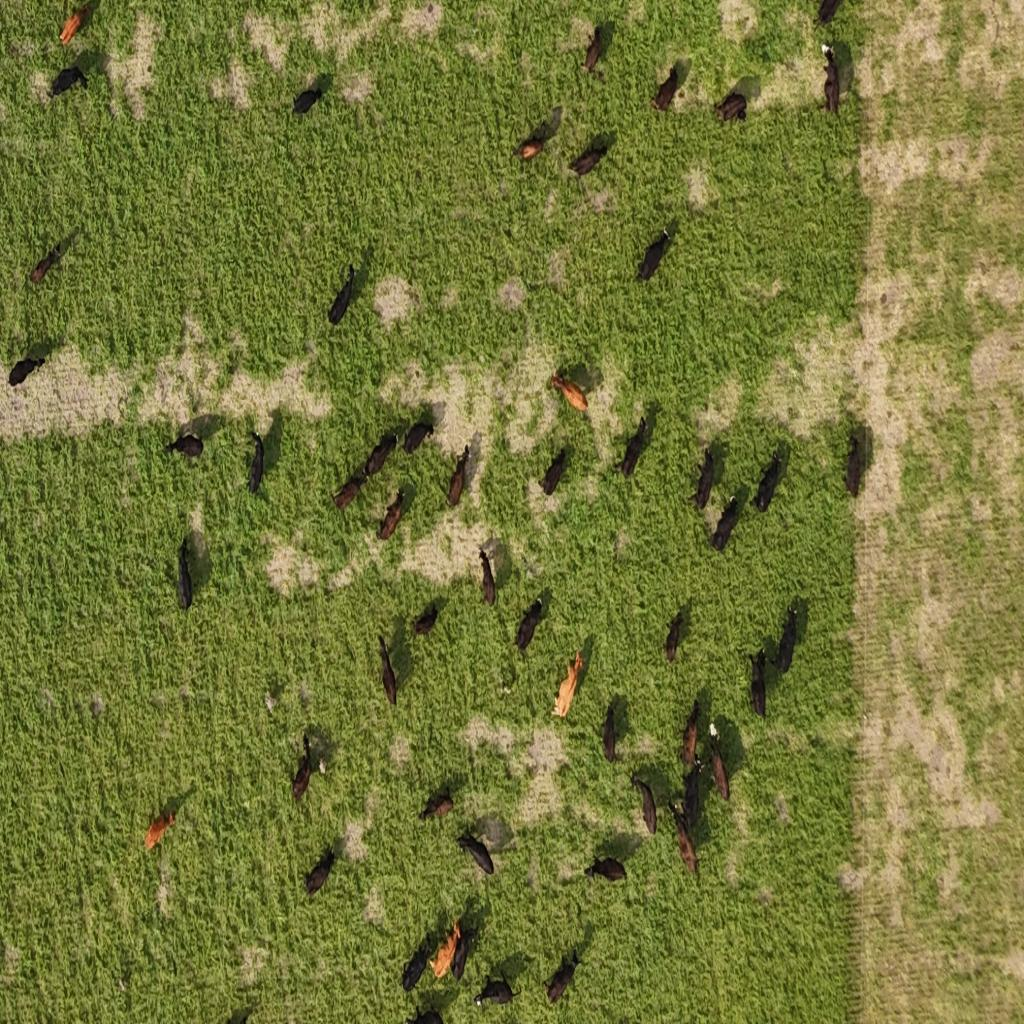cow: (637, 218, 679, 284), (550, 649, 583, 722), (629, 768, 659, 838), (672, 800, 699, 877), (430, 918, 461, 981), (754, 450, 782, 514), (457, 831, 495, 878), (327, 264, 355, 326), (332, 464, 368, 512), (681, 758, 704, 832), (550, 370, 588, 414), (711, 496, 739, 554), (304, 846, 334, 900), (692, 445, 716, 512), (515, 597, 544, 652), (401, 937, 430, 992), (618, 422, 646, 478), (774, 604, 796, 675), (546, 958, 578, 1005), (471, 974, 514, 1008), (680, 699, 700, 772), (446, 444, 468, 510), (365, 433, 396, 479), (60, 3, 93, 46), (709, 736, 730, 803), (168, 429, 206, 466), (50, 64, 89, 100), (570, 142, 608, 178), (651, 66, 680, 113), (377, 490, 403, 542), (144, 808, 176, 850), (748, 650, 767, 720), (378, 638, 397, 708), (540, 447, 566, 498), (452, 925, 473, 988), (176, 536, 193, 612), (8, 354, 45, 388), (713, 90, 747, 126), (291, 745, 312, 803), (247, 429, 265, 495), (29, 244, 58, 284), (419, 790, 454, 823), (404, 419, 435, 456), (589, 854, 627, 884), (478, 546, 496, 608), (845, 433, 862, 497), (822, 57, 840, 117), (664, 609, 683, 665), (602, 700, 618, 764), (514, 131, 546, 162), (412, 601, 438, 638), (292, 86, 322, 117), (583, 30, 601, 74), (814, 0, 844, 26), (408, 1003, 445, 1024), (404, 1008, 422, 1024), (551, 369, 564, 389), (418, 804, 432, 822), (533, 597, 543, 613)
